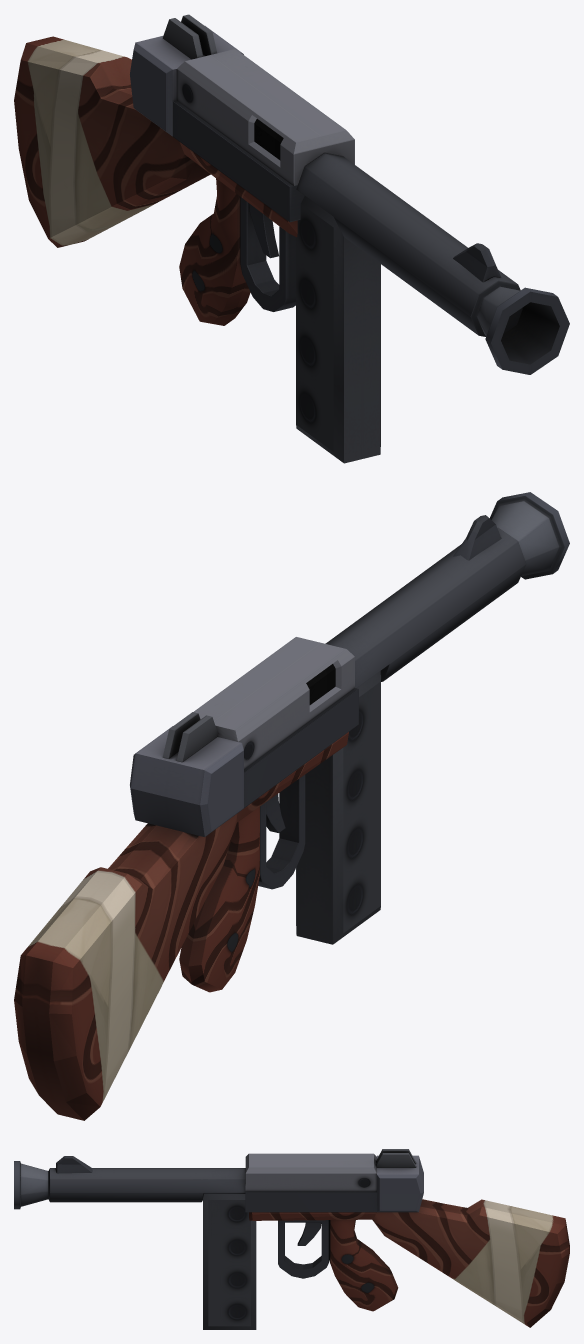
The model's file is gun_e01.fbx.
The picture shows the model from 3 angles, top to bottom: view 1: azimuth 30°, elevation 25°; view 2: azimuth 150°, elevation 25°; view 3: azimuth 270°, elevation 25°; orthographic projection. The views are drawn at different scales.
Parts seen in each view (by area): view 1: gun_e01_02, gun_e01_01; view 2: gun_e01_02, gun_e01_01; view 3: gun_e01_02, gun_e01_01.
Part boxes in pixels (left/top/right/bottom): gun_e01_02: left=14, top=14, right=569, bottom=374; gun_e01_01: left=296, top=196, right=380, bottom=463; gun_e01_02: left=14, top=492, right=569, bottom=1120; gun_e01_01: left=296, top=671, right=380, bottom=944; gun_e01_02: left=14, top=1149, right=569, bottom=1327; gun_e01_01: left=203, top=1194, right=256, bottom=1329.
Size of the model in its own units: 9.02 by 97.5 by 33.5.
